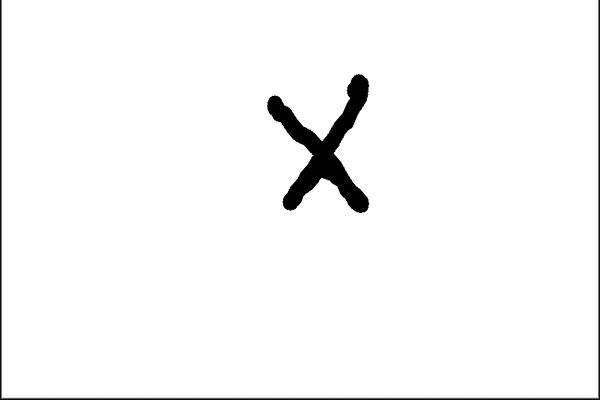X: (246, 69, 372, 221)
